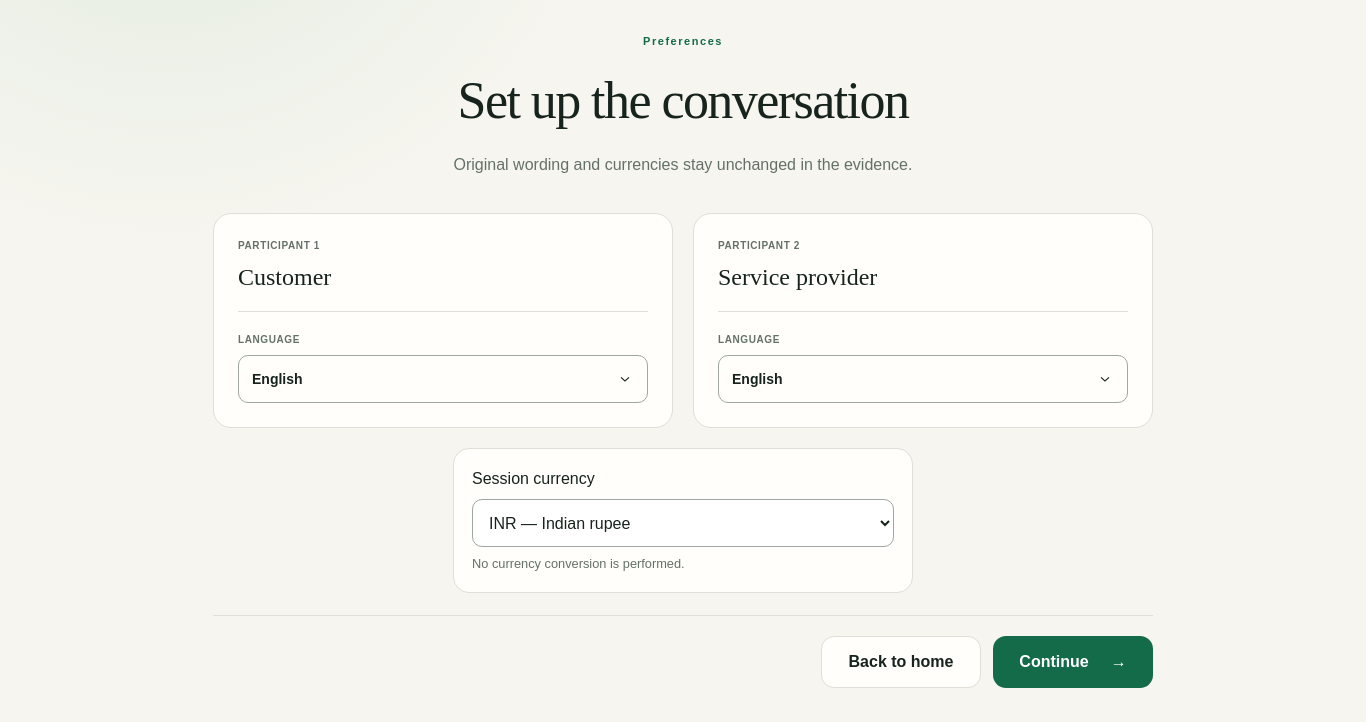
Test: LiveSetup › moves from Preferences to Participation without creating early
The width and height of the screenshot is (1366, 722).
(page scrolled)
Click the button "Continue →": coordinates (1073, 662) 993,636 -> 1153,688
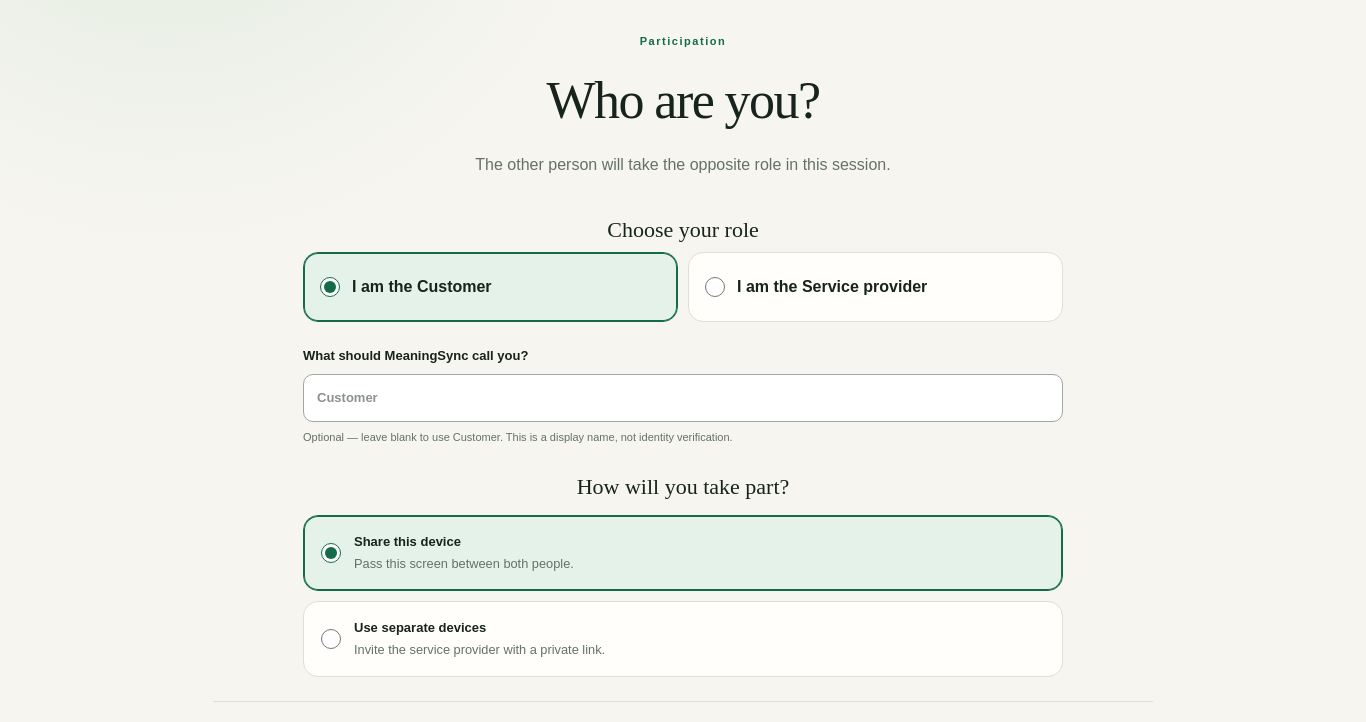
Expected: the heading "Who are you?" is shown, 546,72 -> 819,128
Expected: the radio button labelled "I am the Customer" is checked, 320,277 -> 340,297
Expected: the field labelled "What should MeaningSync call you" is shown, 303,374 -> 1063,422
